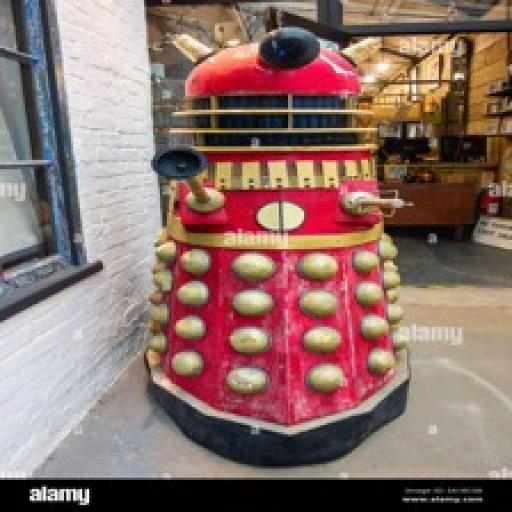dalek: (114, 23, 416, 468)
